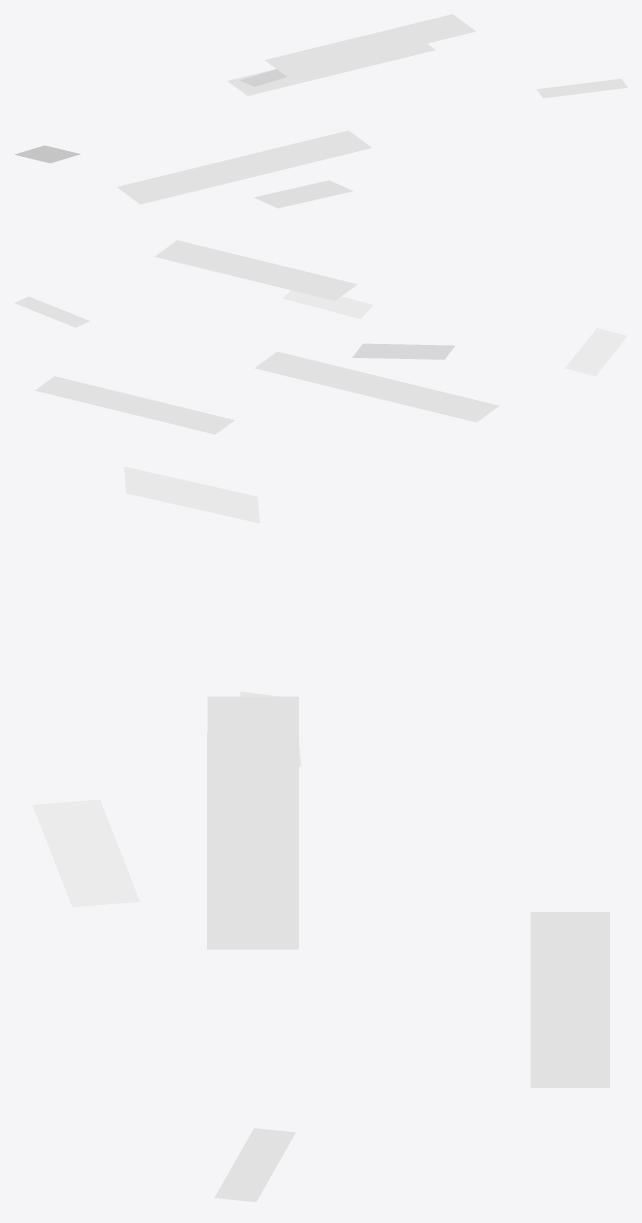
Rendered from progenitor_derelict_05.glb.
3 views of the same model, one above another, from view 1: azimuth 30°, elevation 25°; view 2: azimuth 150°, elevation 25°; view 3: azimuth 270°, elevation 25° (orthographic). The views are drawn at different scales.
Visible parts, largest first — view 1: progenitor_derelict_05_LOD0; view 2: progenitor_derelict_05_LOD0; view 3: progenitor_derelict_05_LOD0.
Part boxes in pixels (left/top/right/bottom): progenitor_derelict_05_LOD0: left=14, top=14, right=627, bottom=208; progenitor_derelict_05_LOD0: left=14, top=240, right=627, bottom=434; progenitor_derelict_05_LOD0: left=32, top=466, right=609, bottom=1201.
Size of what is drawn, in the model's own units: 19.39 by 3.01 by 8.34.
Materials: 1 (1 with a texture image).
